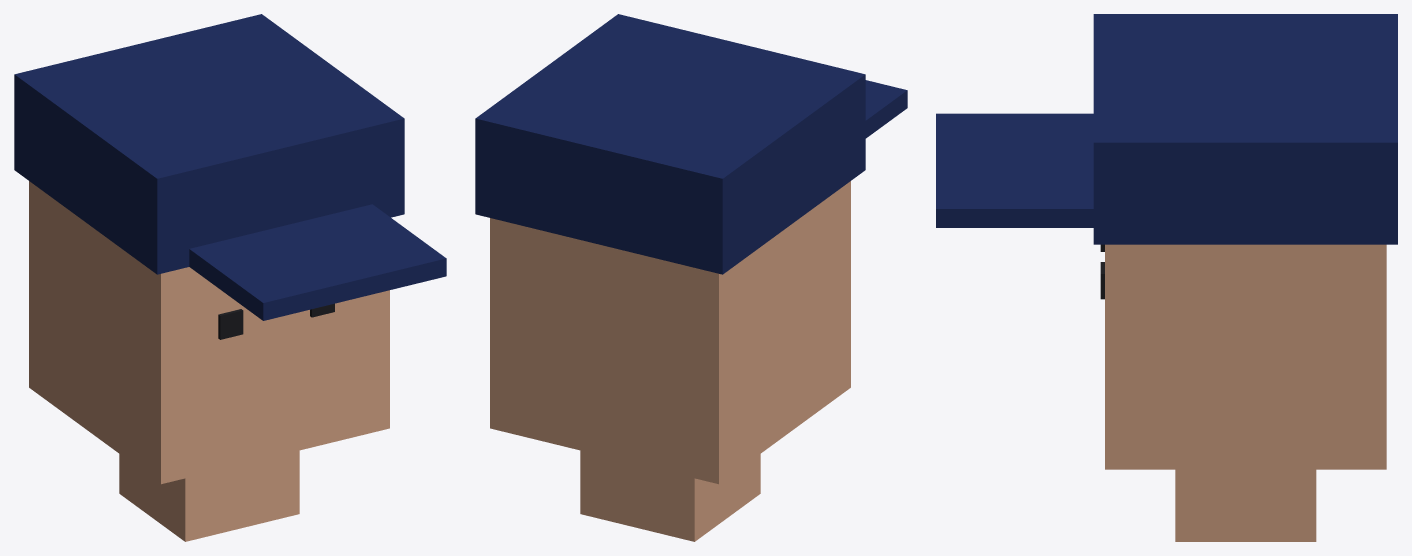
Rendered from arb_cabeza.obj.
3 renders of one model, left to right at view 1: azimuth 30°, elevation 25°; view 2: azimuth 150°, elevation 25°; view 3: azimuth 270°, elevation 25°, orthographic. The views are drawn at different scales.
Bounding box in the file's own units: 0.216 × 0.34 × 0.328.
3 materials, 3 textured.
